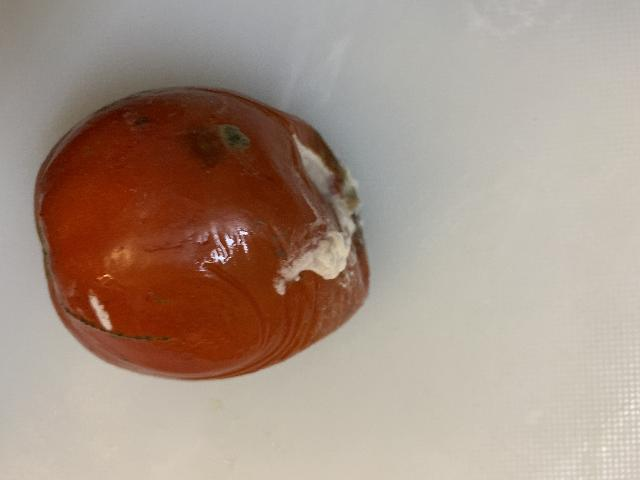defect: (31, 83, 375, 385)
